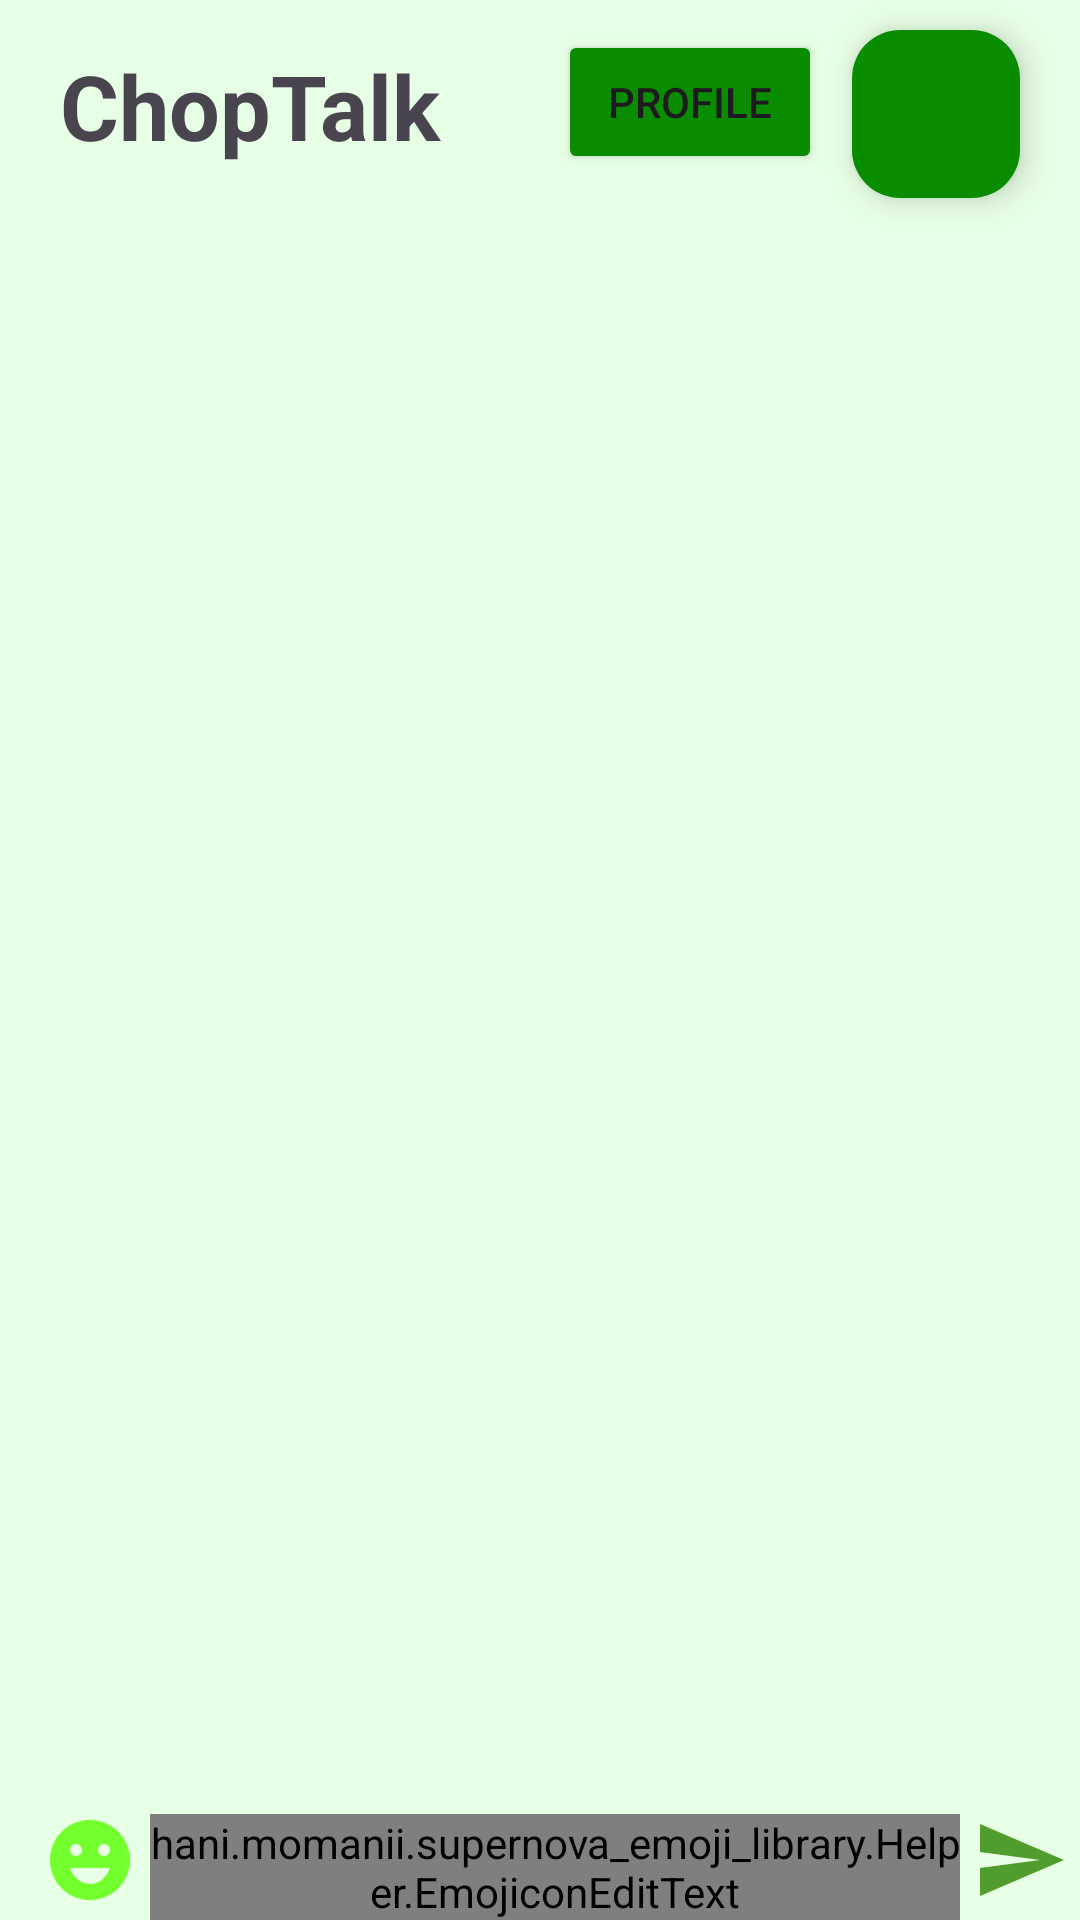

Icon bounding boxes for this 1080*1920 phone screenshot, format (x1, y1, x2, y2):
emj: (50, 1820, 130, 1900)
send: (980, 1824, 1064, 1896)
